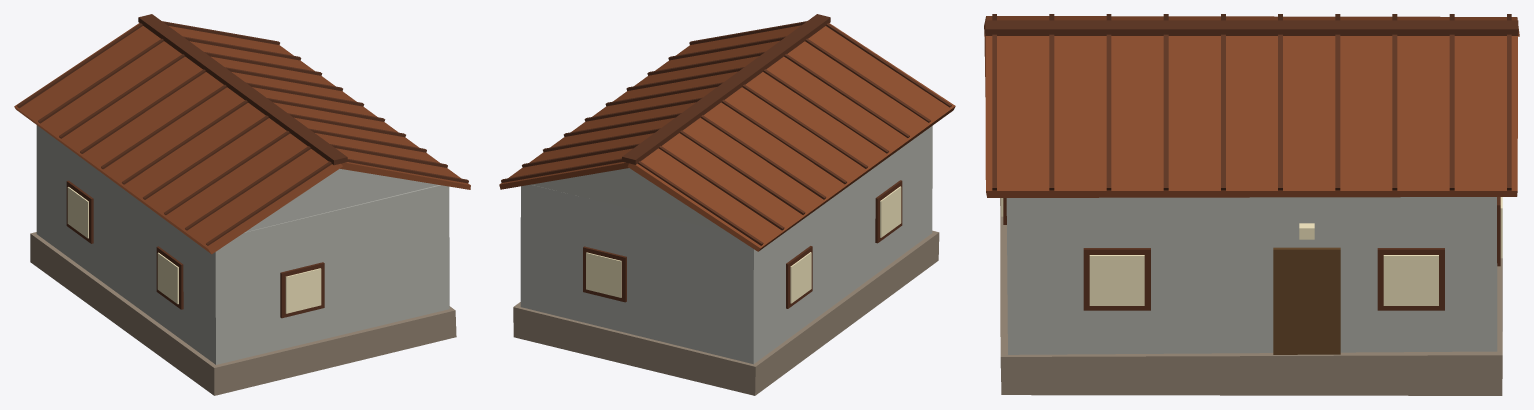
File: bowl_house_rust.glb
The picture shows the model from 3 angles, left to right: view 1: azimuth 30°, elevation 25°; view 2: azimuth 150°, elevation 25°; view 3: azimuth 270°, elevation 25°; orthographic projection. The views are drawn at different scales.
Visible parts, largest first — view 1: bowl_house_rust; view 2: bowl_house_rust; view 3: bowl_house_rust.
Part boxes in pixels (<box>): bowl_house_rust: <box>14,14,470,395</box>; bowl_house_rust: <box>499,14,955,395</box>; bowl_house_rust: <box>984,14,1519,395</box>.
Bounding box in the file's own units: 6.76 × 5.23 × 8.74.
